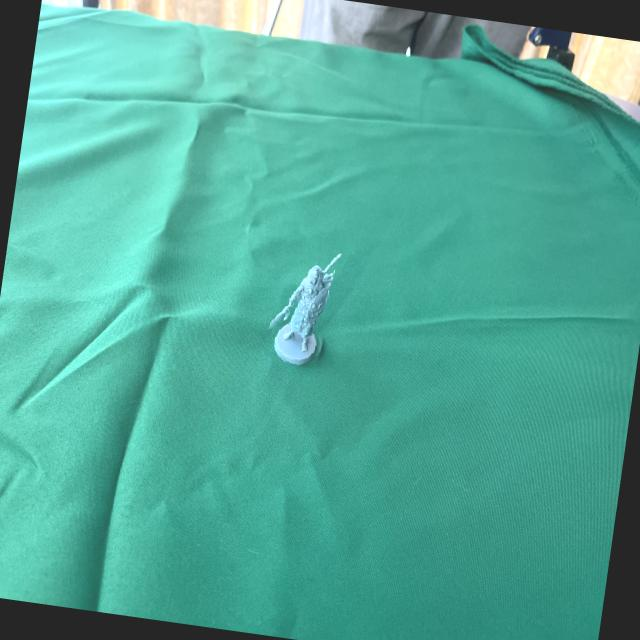isis_follower: (265, 233, 346, 370)
